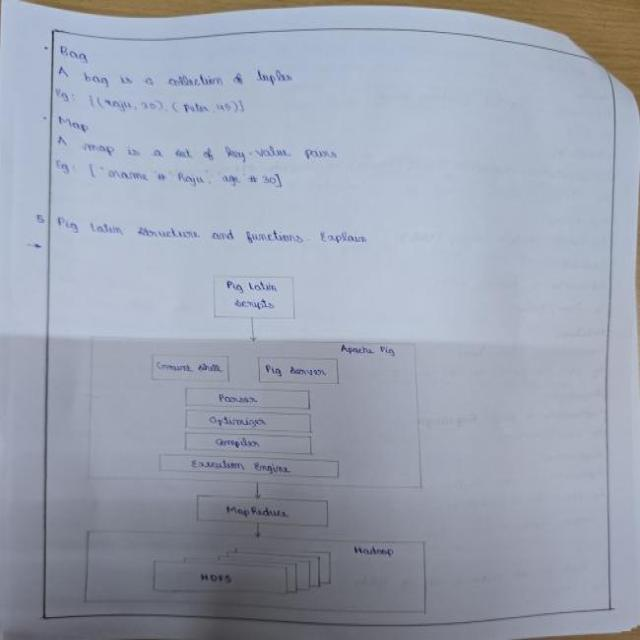Figure Detection - v3 Dataset Version2: (68, 252, 450, 624)
